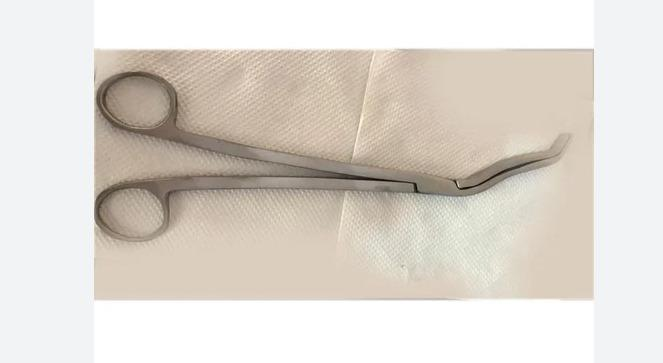Cheatle Forceps: (93, 67, 574, 253)
